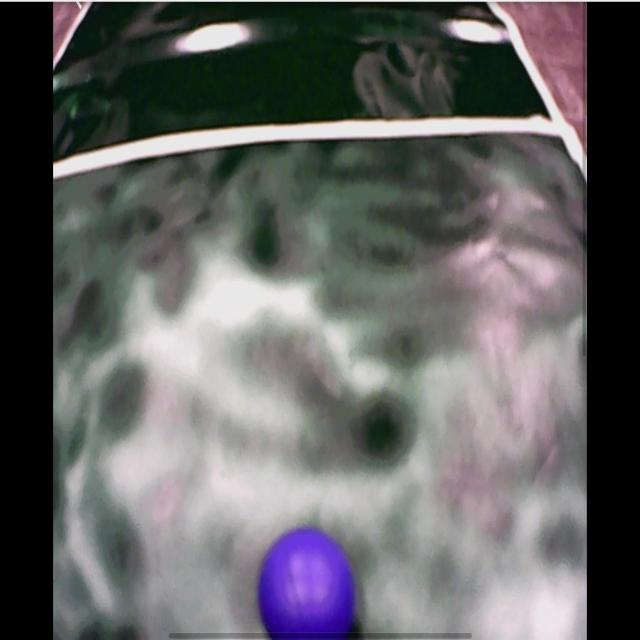ball: (260, 528, 358, 638)
